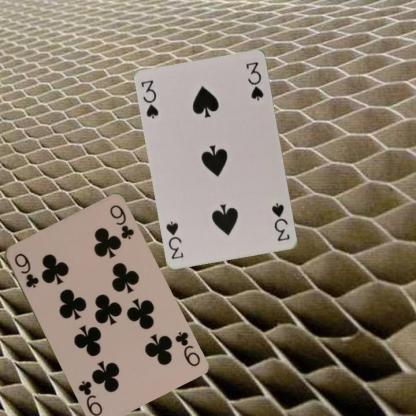3s: (269, 200, 291, 244), (139, 78, 160, 120)
9c: (172, 328, 201, 368), (11, 250, 40, 289)
